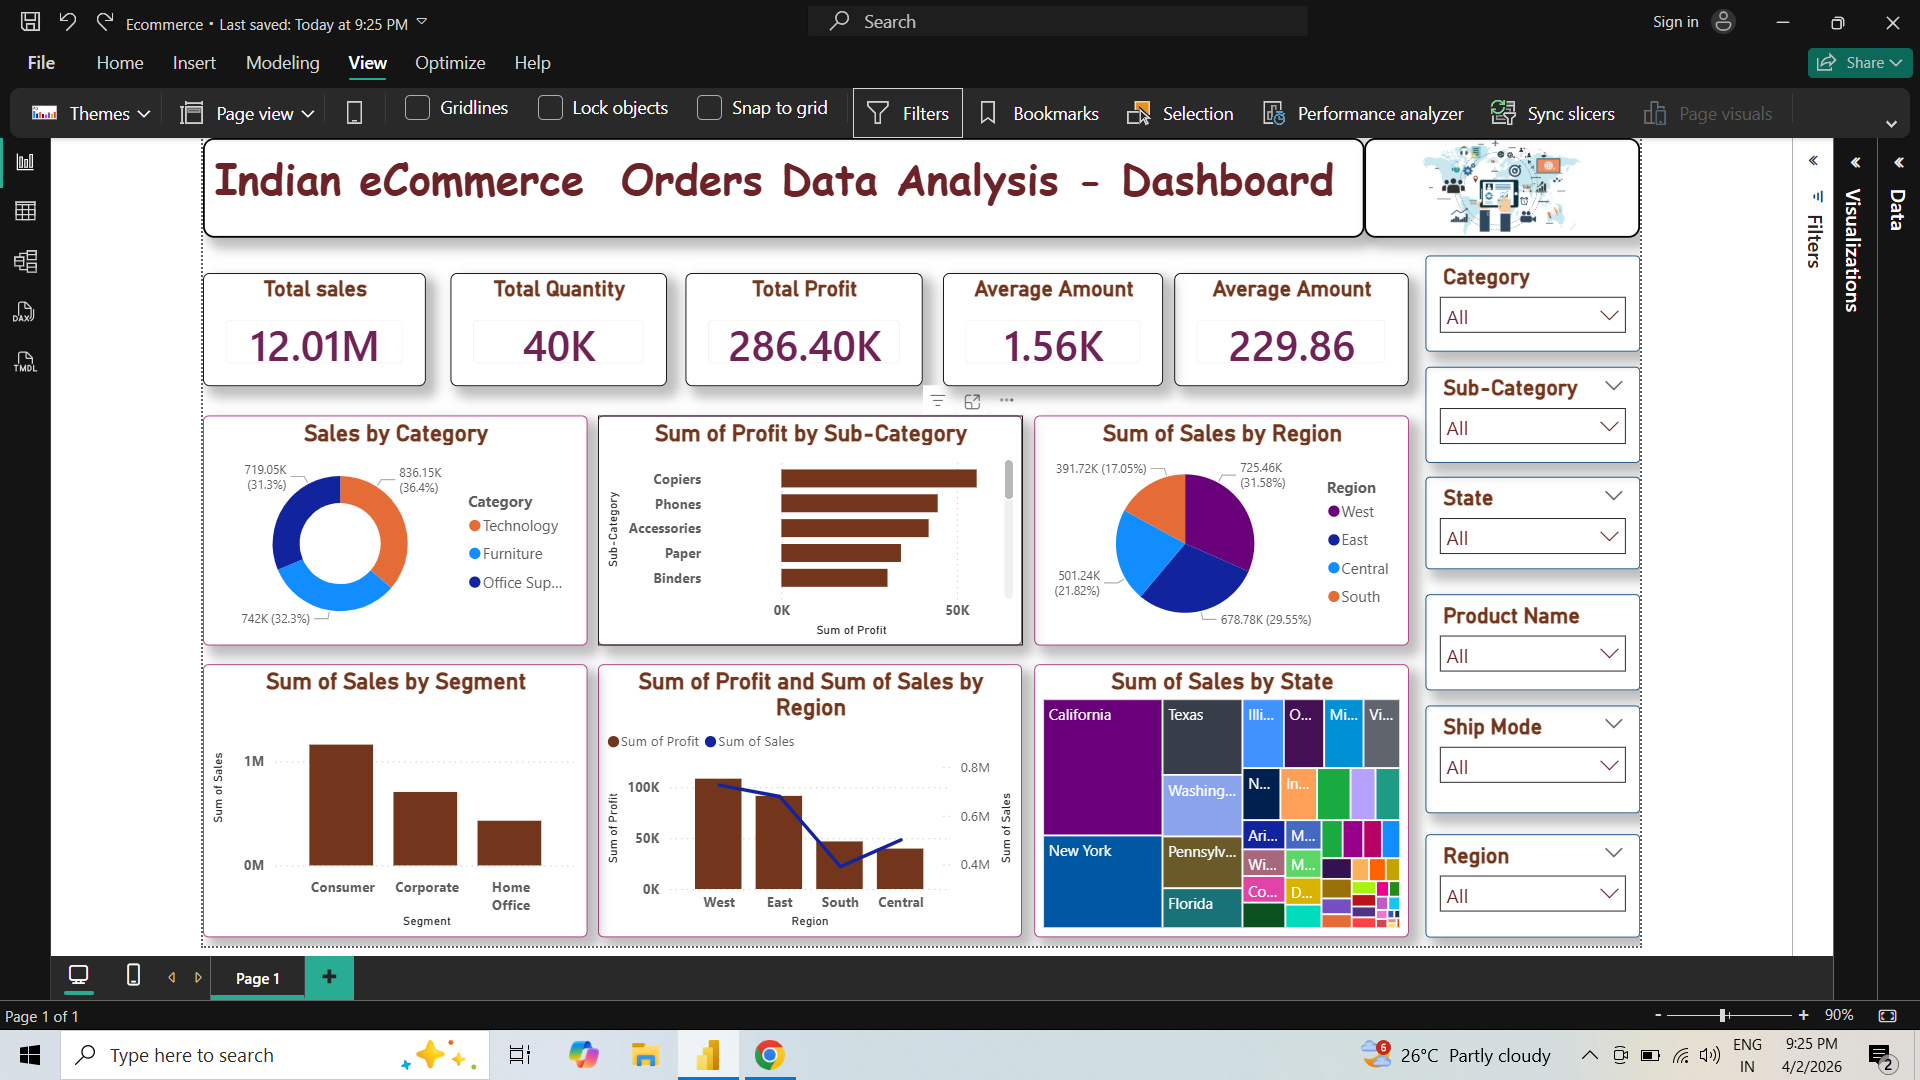

This screenshot's page, from the dashboard's own definition file:
{"tool":"powerbi","page":{"name":"Page 1","canvas":[1280,720],"ordinal":0},"visuals":[{"type":"textbox","box":[0,0,1034.7,89.2],"z":0},{"type":"image","box":[1034.7,0,245.6,89.2],"z":1000},{"type":"cardVisual","title":"Total sales","fields":{"Data":["Sum(Orders.Total sales)"]},"box":[0,120.2,198.8,100.6],"z":2000},{"type":"cardVisual","title":"Total Quantity","fields":{"Data":["Sum(Orders.Quantity)"]},"box":[220.9,120.2,192.6,100.6],"z":3000},{"type":"cardVisual","title":"Total Profit","fields":{"Data":["Sum(Orders.Profit)"]},"box":[429.5,120.2,211,100.6],"z":4000},{"type":"cardVisual","title":"Average Amount","fields":{"Data":["Avg(Orders.Sales)"]},"box":[865,120.2,208.6,100.6],"z":5000},{"type":"slicer","fields":{"Values":["Orders.Category"]},"box":[1088.3,104.3,191.4,85.9],"z":6000},{"type":"slicer","fields":{"Values":["Orders.Sub-Category"]},"box":[1088.3,203.7,191.4,85.9],"z":7000},{"type":"slicer","fields":{"Values":["Orders.State"]},"box":[1088.3,301.8,191.4,82.2],"z":8000},{"type":"slicer","fields":{"Values":["Orders.Product Name"]},"box":[1088.3,406.1,191.4,85.9],"z":9000},{"type":"slicer","fields":{"Values":["Orders.Ship Mode"]},"box":[1088.3,505.5,191.4,95.7],"z":10000},{"type":"slicer","fields":{"Values":["Orders.Region"]},"box":[1088.3,619.6,191.4,92],"z":11000},{"type":"donutChart","title":"Sales by Category","fields":{"Category":["Orders.Category"],"Y":["Sum(Orders.Sales)"]},"box":[0,246.6,342.3,204.9],"z":12000},{"type":"pieChart","fields":{"Category":["Orders.Region"],"Y":["Sum(Orders.Sales)"]},"box":[739.9,246.6,333.7,204.9],"z":13000},{"type":"clusteredBarChart","fields":{"Y":["Sum(Orders.Profit)"],"Category":["Orders.Sub-Category"]},"box":[352.1,246.6,377.9,204.9],"z":14000},{"type":"lineClusteredColumnComboChart","fields":{"Y":["Sum(Orders.Profit)"],"Y2":["Sum(Orders.Sales)"],"Category":["Orders.Region"]},"box":[352.1,468.7,377.9,242.9],"z":15000},{"type":"columnChart","fields":{"Category":["Orders.Segment"],"Y":["Sum(Orders.Sales)"]},"box":[0,468.7,342.3,242.9],"z":16000},{"type":"cardVisual","title":"Average Amount","fields":{"Data":["Sum(Orders.Discount)"]},"box":[658.9,120.2,196.3,100.6],"z":17000},{"type":"treemap","fields":{"Group":["Orders.State"],"Values":["Sum(Orders.Sales)"]},"box":[739.9,468.7,333.7,242.9],"z":18000}]}

Visuals, with their boxes on the page's 1280x720 design canvas (x1, y1, x2, y2). These are canvas units, not pixel positions in the 1920x1080 screenshot, which may show the page scaled, cropped or inside an application window:
textbox: x1=0 y1=0 x2=1035 y2=89
image: x1=1035 y1=0 x2=1280 y2=89
"Total sales" cardVisual: x1=0 y1=120 x2=199 y2=221
"Total Quantity" cardVisual: x1=221 y1=120 x2=414 y2=221
"Total Profit" cardVisual: x1=430 y1=120 x2=640 y2=221
"Average Amount" cardVisual: x1=865 y1=120 x2=1074 y2=221
slicer - Orders.Category: x1=1088 y1=104 x2=1280 y2=190
slicer - Orders.Sub-Category: x1=1088 y1=204 x2=1280 y2=290
slicer - Orders.State: x1=1088 y1=302 x2=1280 y2=384
slicer - Orders.Product Name: x1=1088 y1=406 x2=1280 y2=492
slicer - Orders.Ship Mode: x1=1088 y1=506 x2=1280 y2=601
slicer - Orders.Region: x1=1088 y1=620 x2=1280 y2=712
"Sales by Category" donutChart: x1=0 y1=247 x2=342 y2=452
pieChart - Orders.Region x Sum(Orders.Sales): x1=740 y1=247 x2=1074 y2=452
clusteredBarChart - Sum(Orders.Profit) x Orders.Sub-Category: x1=352 y1=247 x2=730 y2=452
lineClusteredColumnComboChart - Sum(Orders.Profit) x Sum(Orders.Sales): x1=352 y1=469 x2=730 y2=712
columnChart - Orders.Segment x Sum(Orders.Sales): x1=0 y1=469 x2=342 y2=712
"Average Amount" cardVisual: x1=659 y1=120 x2=855 y2=221
treemap - Orders.State x Sum(Orders.Sales): x1=740 y1=469 x2=1074 y2=712
